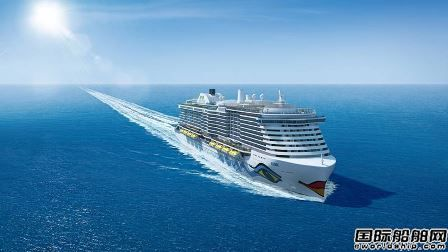youlun: (176, 86, 344, 202)
